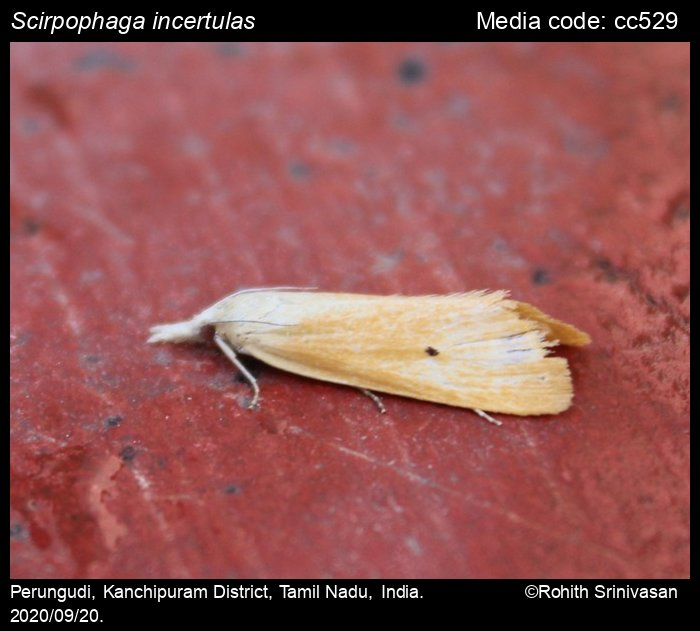Crambidae: (148, 288, 594, 422)
